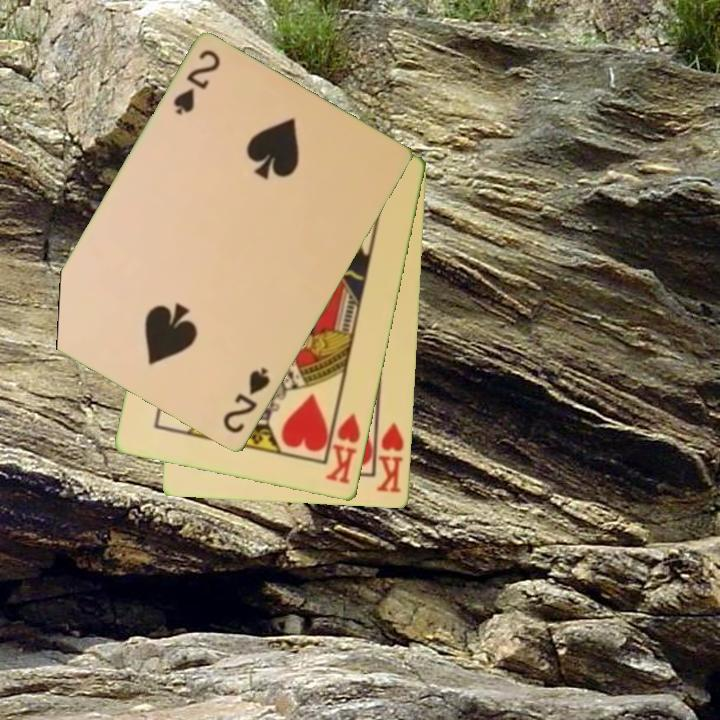2s: (219, 364, 273, 437), (170, 46, 224, 119)
Kh: (322, 403, 364, 488), (372, 414, 407, 496)
